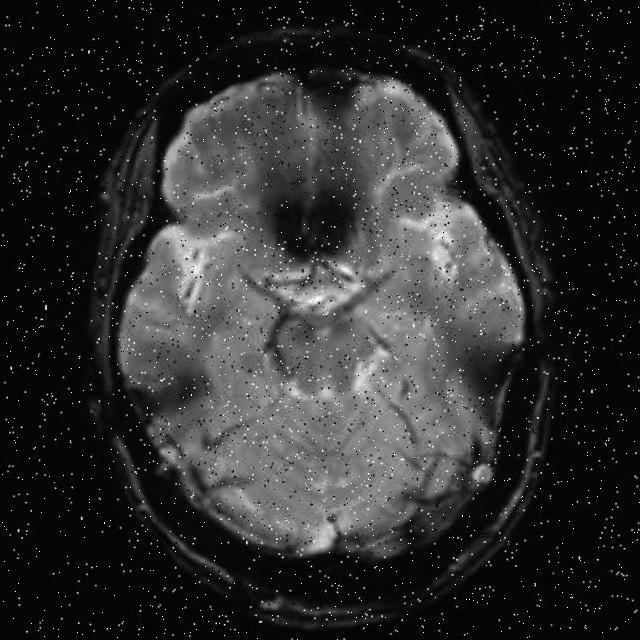EMCI: (230, 142, 400, 252)
